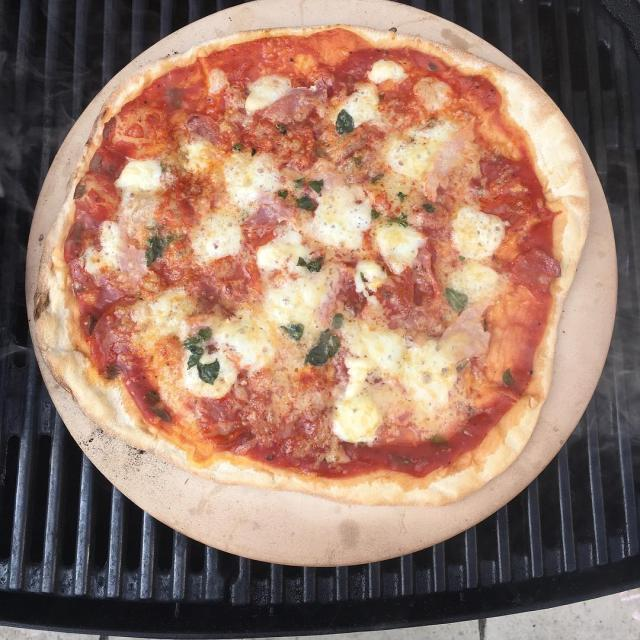basil: (182, 324, 223, 386), (301, 329, 341, 368), (140, 227, 174, 269), (293, 173, 326, 212), (294, 246, 325, 278), (332, 106, 358, 142), (441, 284, 470, 314), (277, 320, 309, 344), (496, 361, 520, 389), (325, 307, 349, 333), (226, 141, 258, 158), (272, 184, 290, 203), (427, 432, 446, 449)
pepperoni: (85, 286, 149, 378), (107, 355, 172, 425), (364, 255, 419, 332)
pizza: (36, 26, 588, 504)
